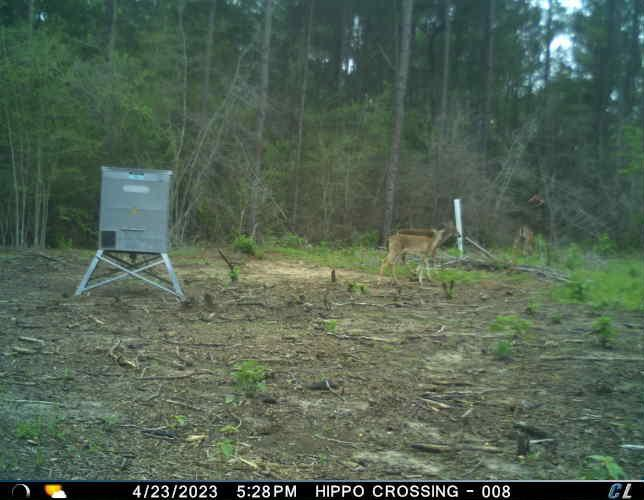Deer: (378, 226, 447, 284), (394, 220, 464, 267), (511, 221, 536, 262)
